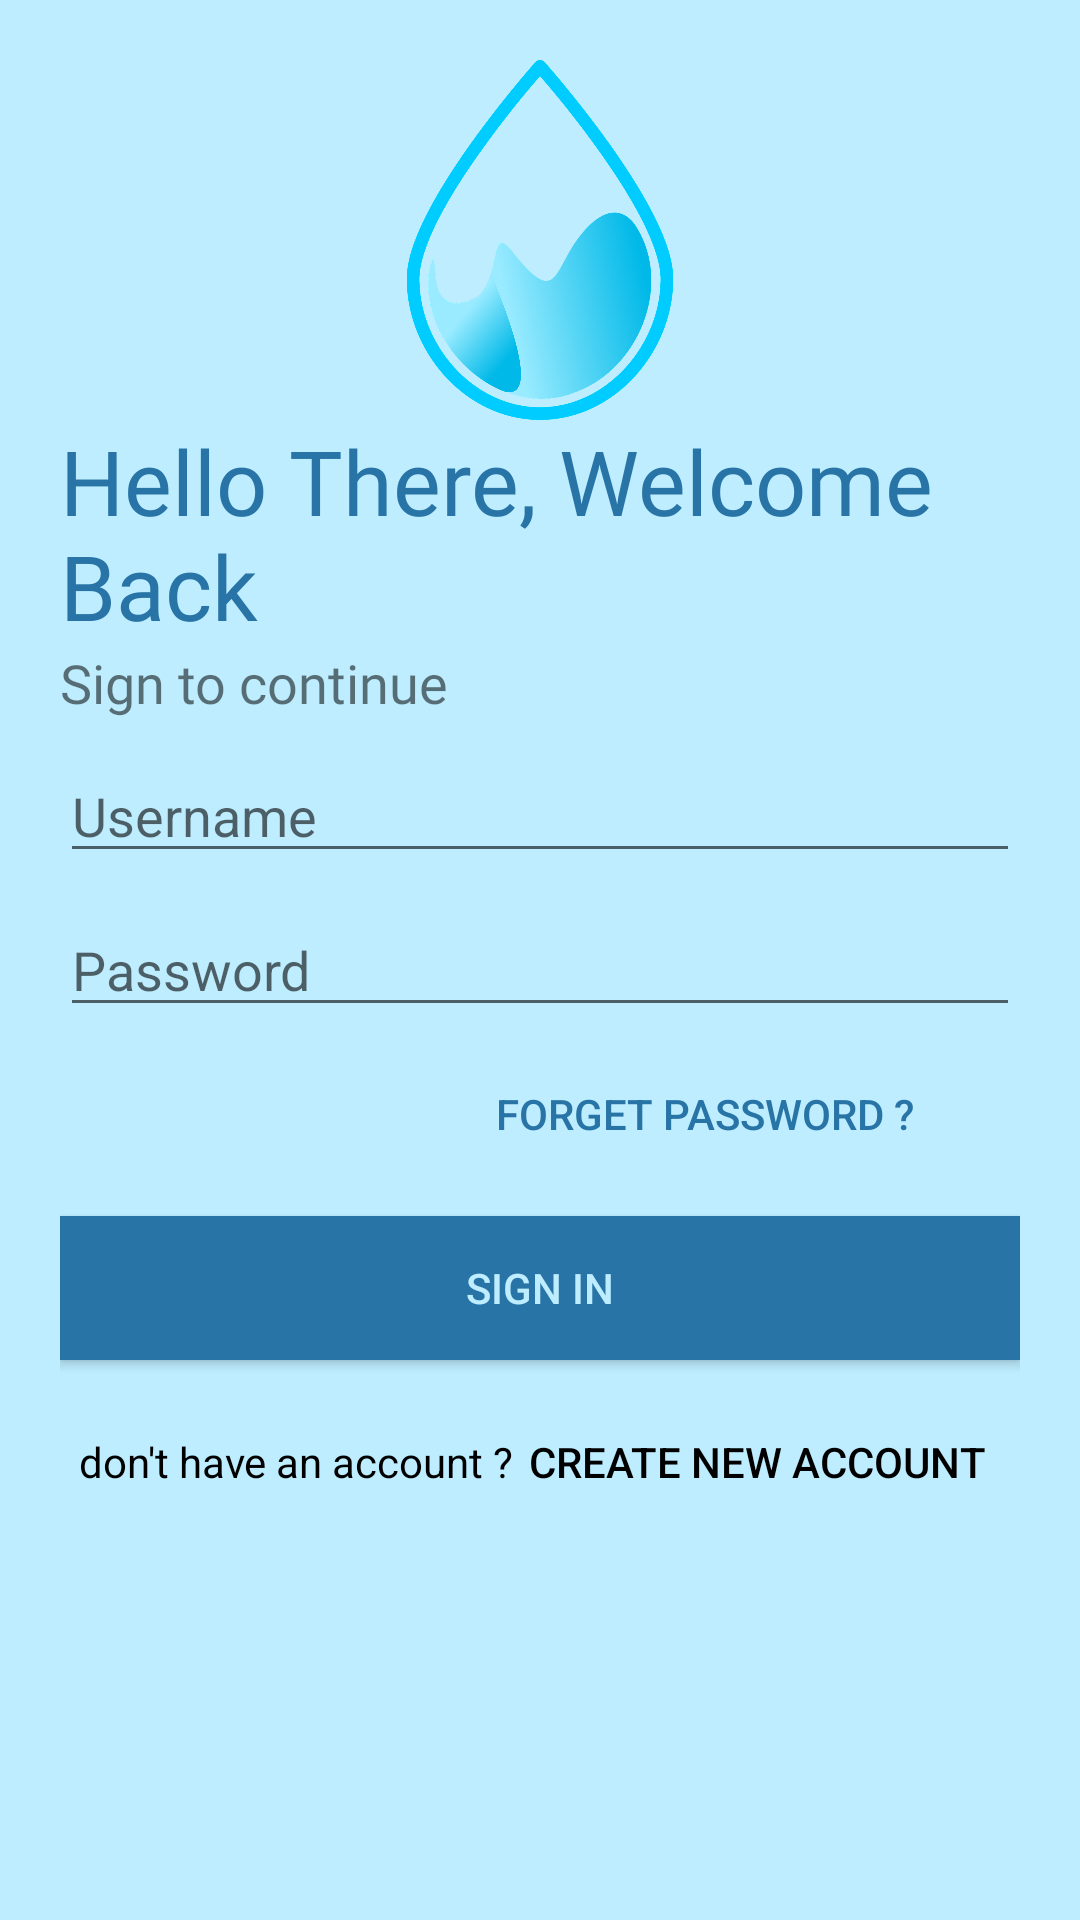

Point at icon controls on the screen. Image size 1080 × 1920, points as [x,y].
water: [540,240]
